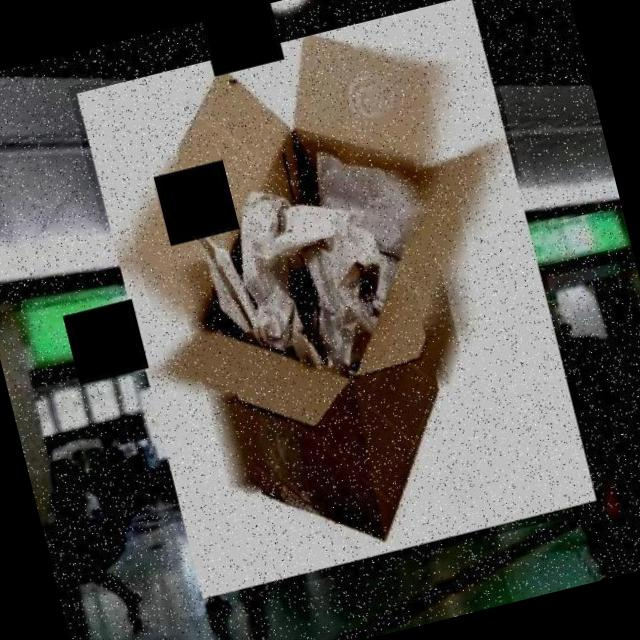box: (67, 0, 604, 609)
